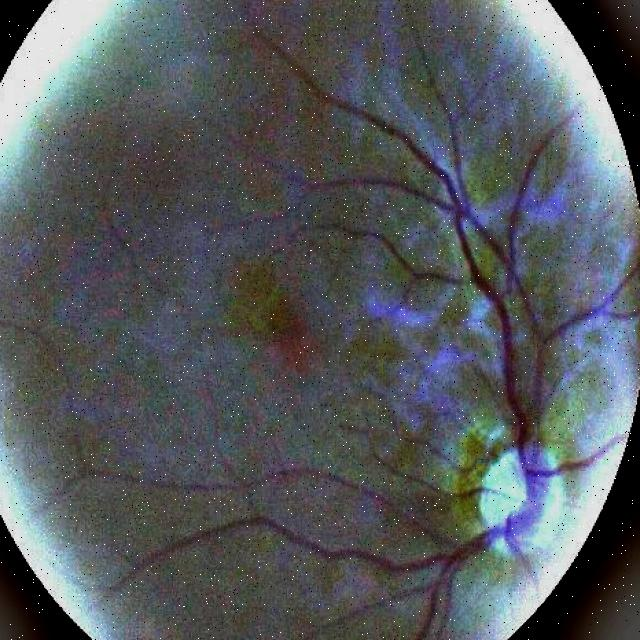Macula: (271, 297, 304, 343)
Nerves: (97, 18, 543, 640)
Optic Disk: (481, 445, 556, 555)
